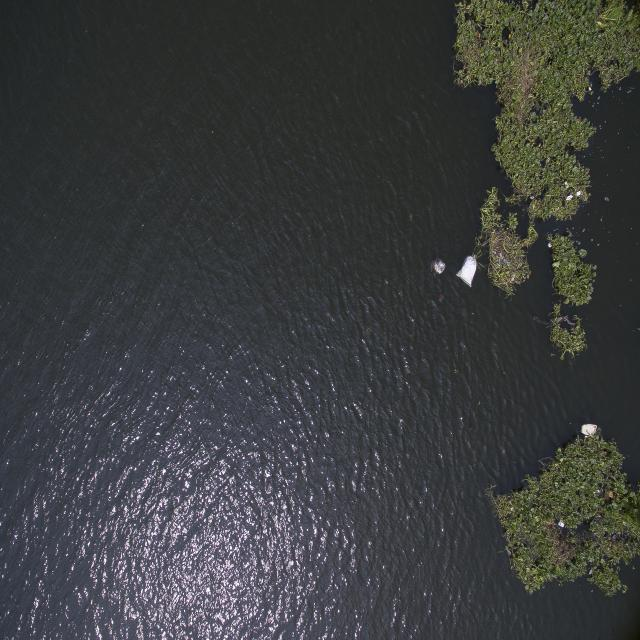plastic: (580, 417, 612, 453), (457, 250, 482, 296), (560, 174, 588, 208), (434, 252, 449, 278), (557, 514, 572, 536)
